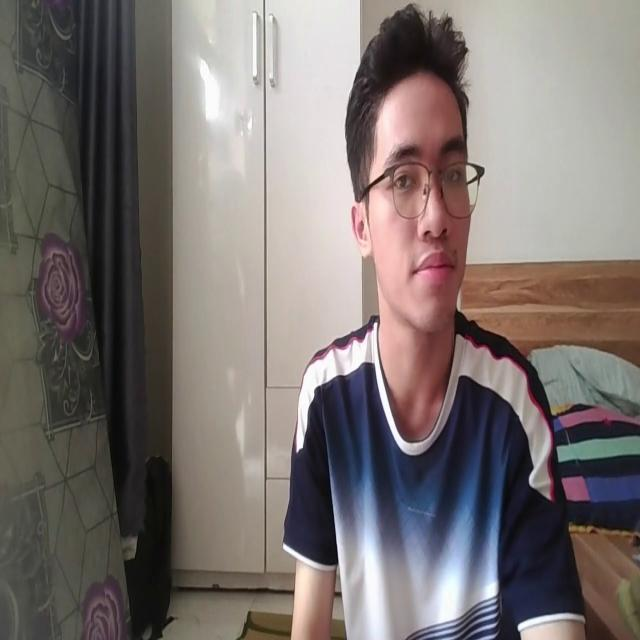student: (283, 3, 587, 640)
